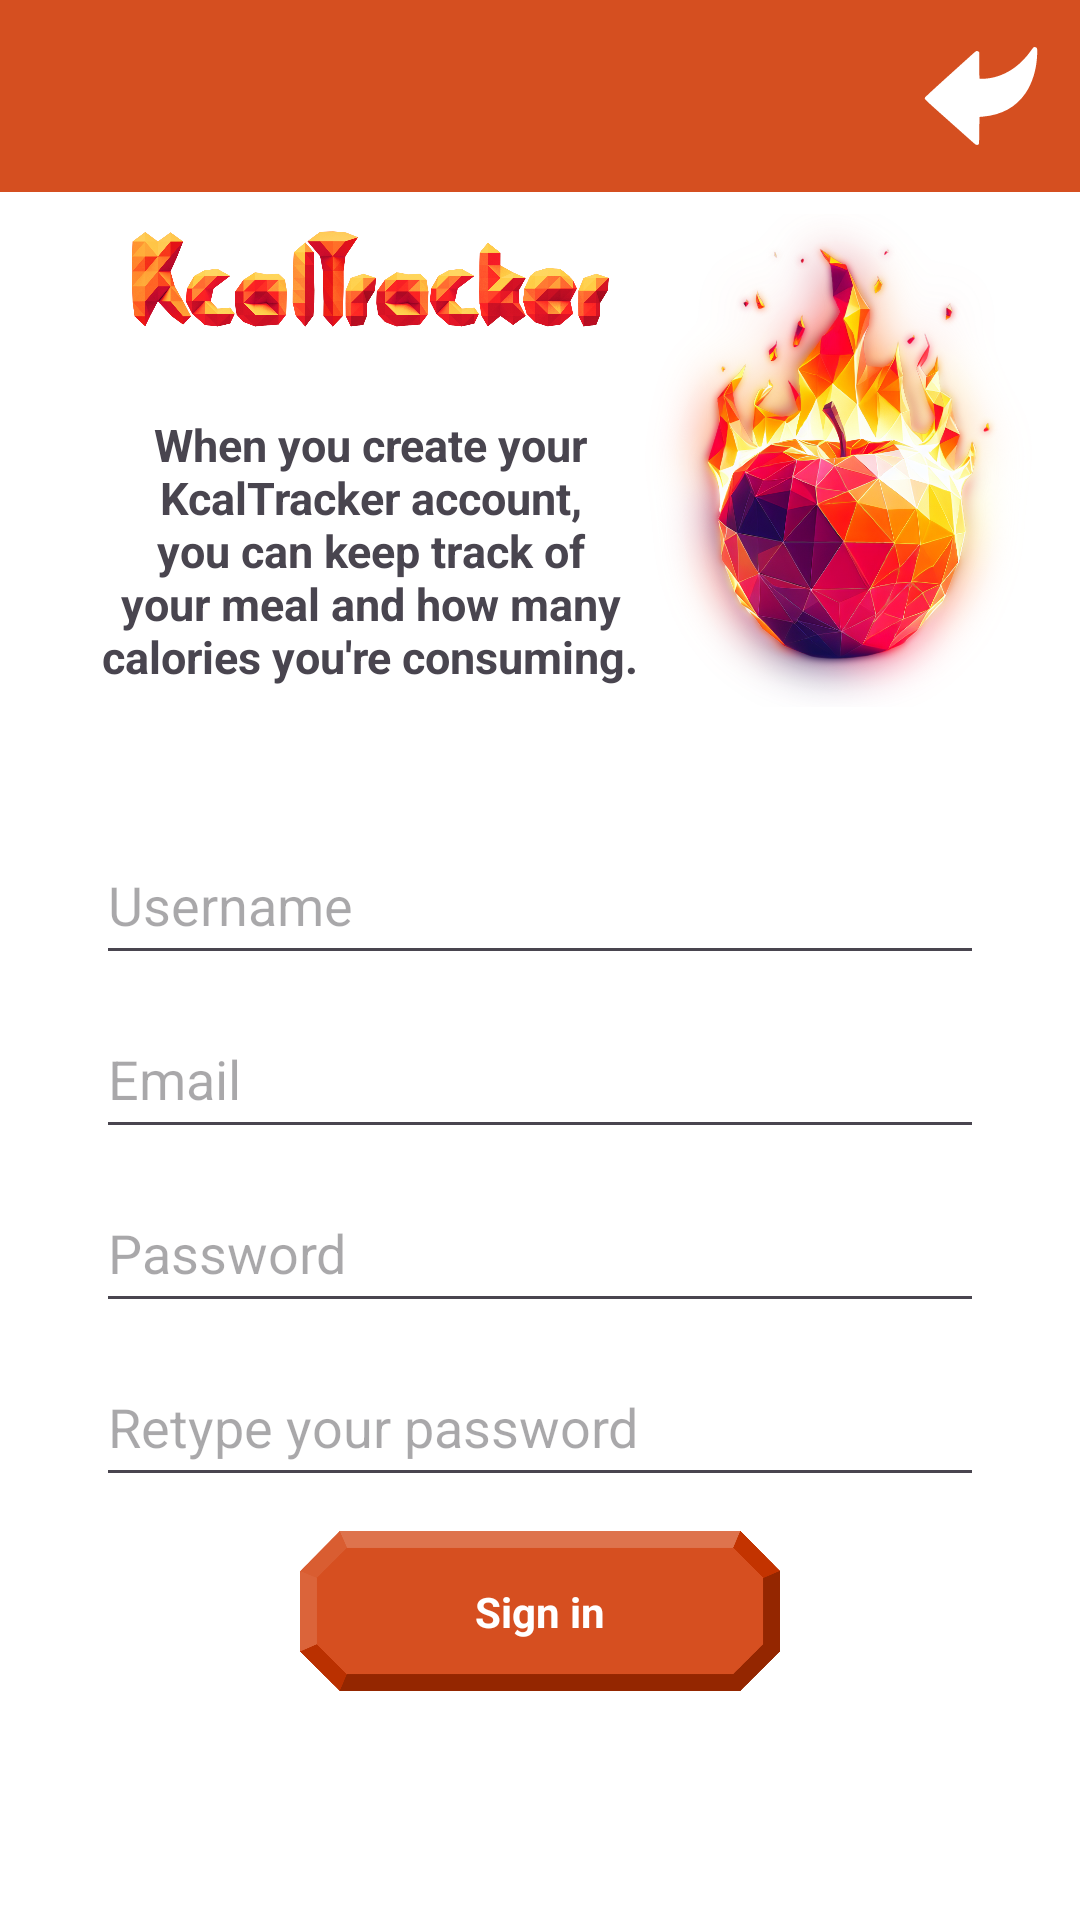

Where to tap for icons on this 1080×1920 app screen, as [x,y]:
Back: [981,96]
